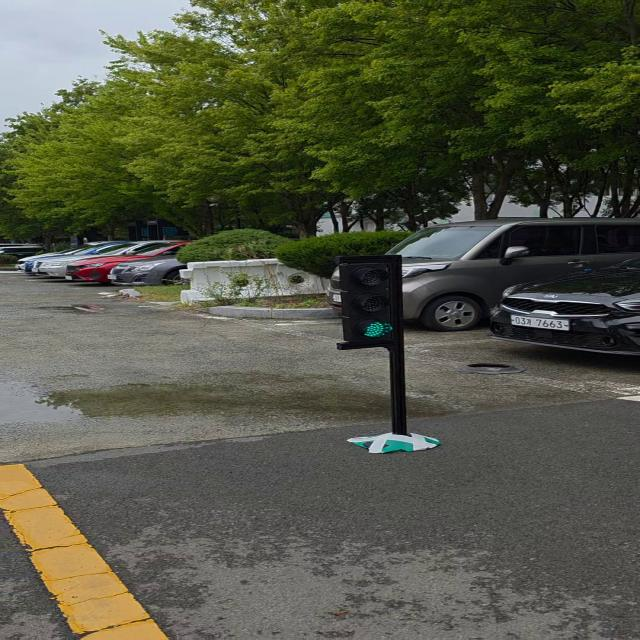green: (346, 258, 404, 348)
